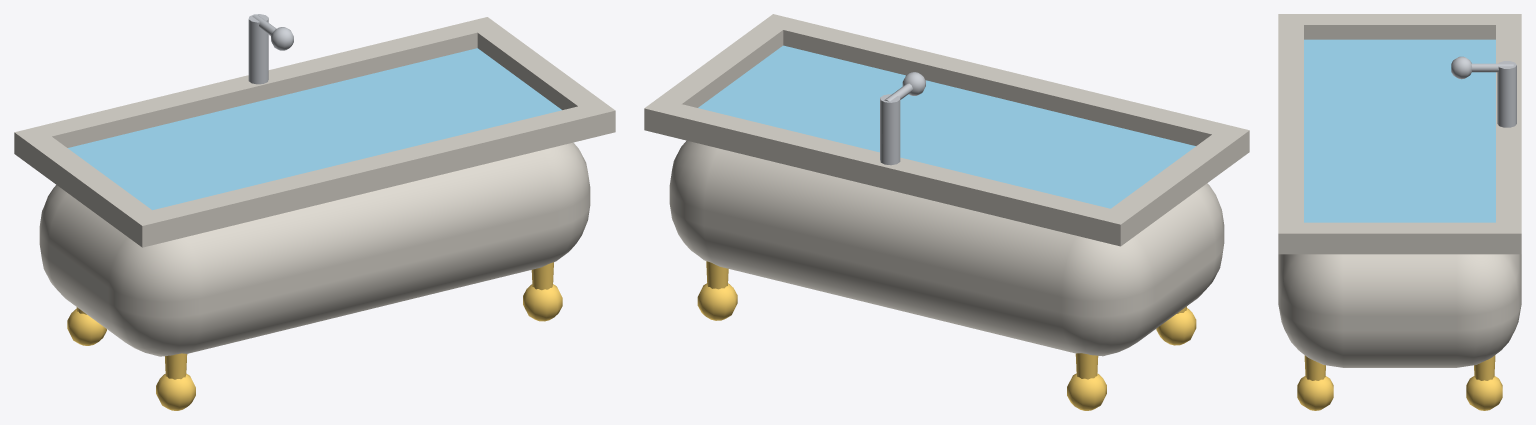
The model's file is bathtub.glb.
3 views of the same model, side by side, from view 1: azimuth 30°, elevation 25°; view 2: azimuth 150°, elevation 25°; view 3: azimuth 270°, elevation 25° (orthographic). The views are drawn at different scales.
Bounding box in the file's own units: 1.6 × 0.905 × 0.75.
